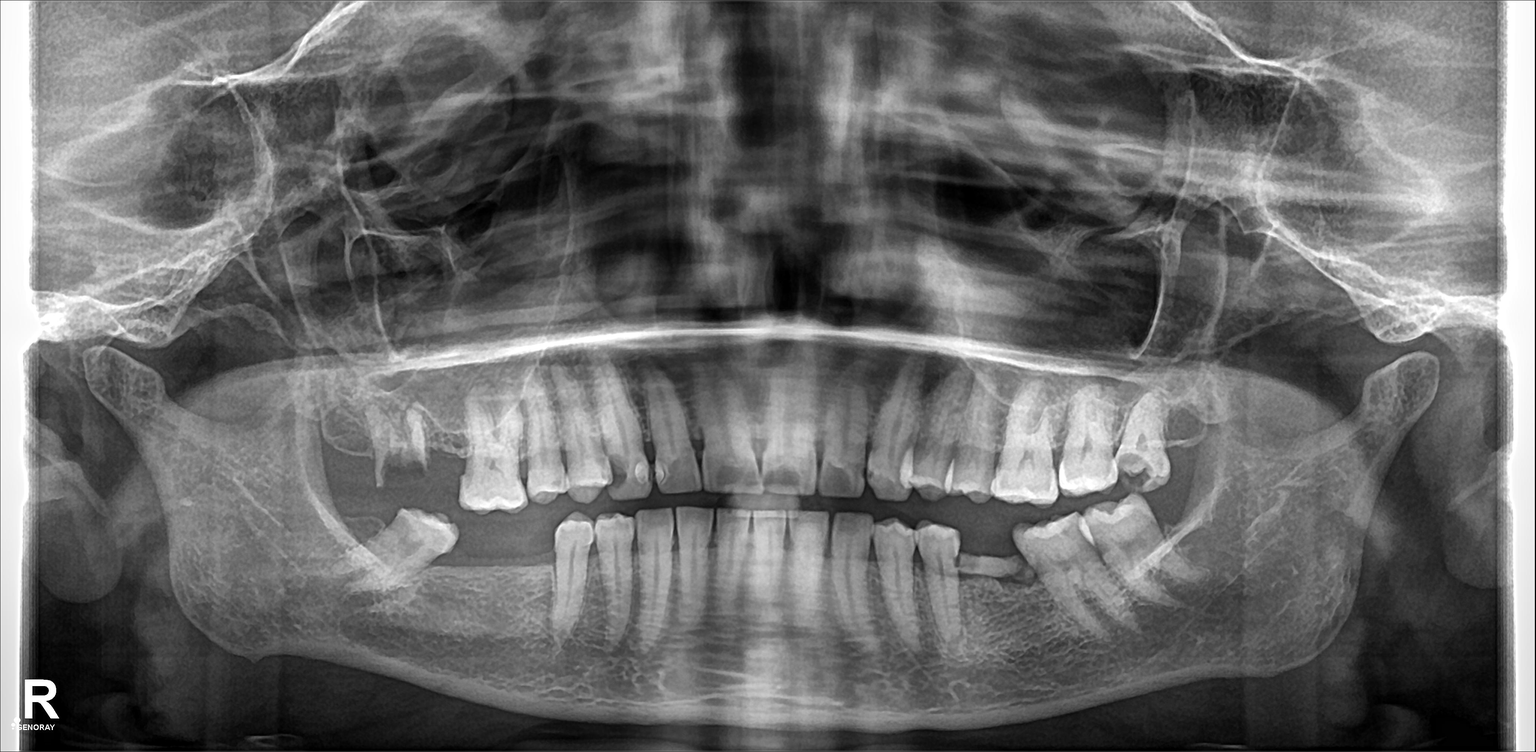Dental Caries: (376, 441, 419, 477), (821, 463, 864, 498), (603, 450, 630, 490), (1125, 460, 1152, 489)
Missing Tooth: (955, 519, 1012, 642), (309, 395, 372, 490), (415, 400, 471, 496), (507, 527, 557, 634), (313, 503, 378, 572), (460, 530, 505, 624), (1168, 499, 1211, 584), (1166, 404, 1214, 477)
